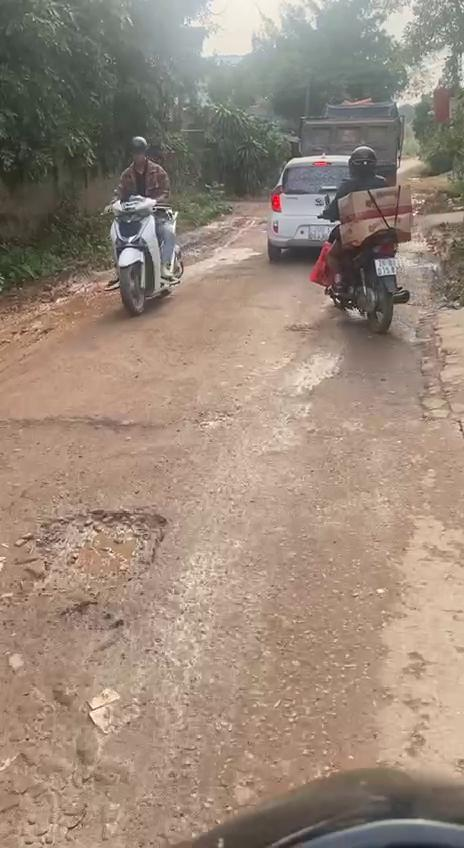pothole: (0, 504, 173, 646), (0, 402, 231, 476)
